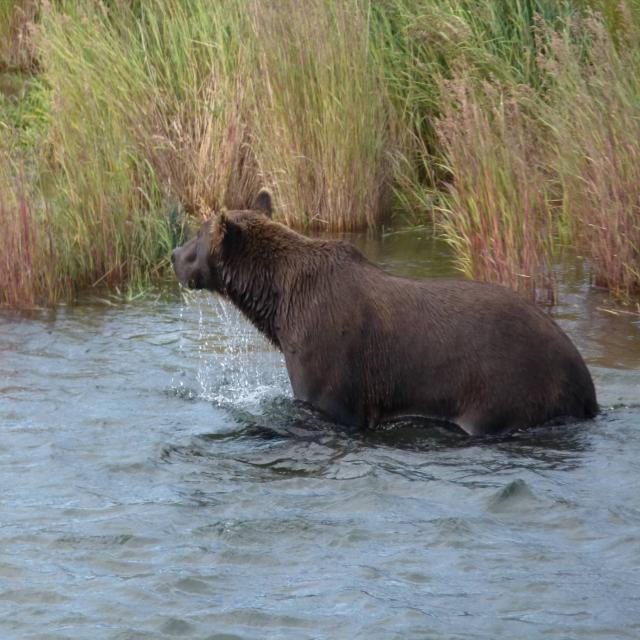bear face: (169, 186, 599, 431)
